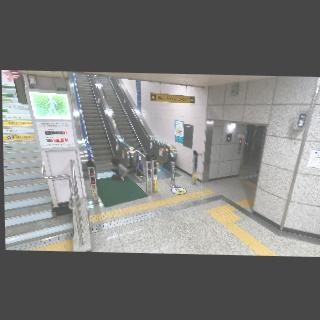anomaly: (106, 156, 131, 183)
